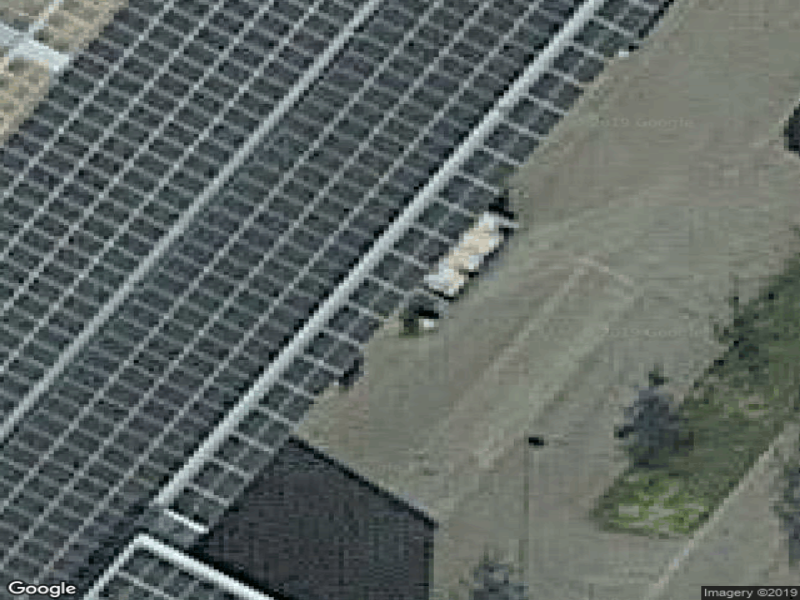pv: (1, 1, 664, 599)
